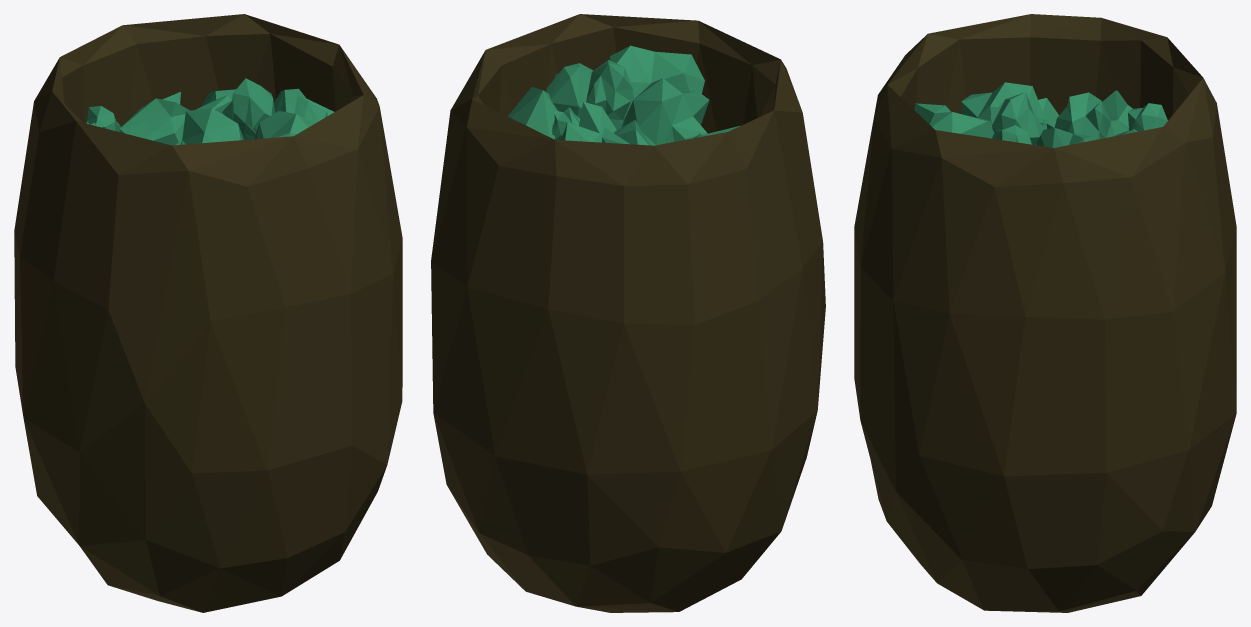
The model's file is slim pot of emerald.glb.
3 views of the same model, side by side, from view 1: azimuth 30°, elevation 25°; view 2: azimuth 150°, elevation 25°; view 3: azimuth 270°, elevation 25° (orthographic).
Visible parts, largest first — view 1: Cube, Cube.013, Cube.014, Cube.009, Cube.001, Cube.016, Cube.017; view 2: Cube, Cube.009, Cube.001, Cube.014, Cube.016, Cube.002, Cube.006, Cube.013; view 3: Cube, Cube.013, Cube.009, Cube.001, Cube.014, Cube.017, Cube.011, Cube.006.
Part boxes in pixels (<box>): Cube: <box>14,14,402,612</box>; Cube.013: <box>119,92,189,145</box>; Cube.014: <box>222,78,274,139</box>; Cube.009: <box>180,108,243,144</box>; Cube.001: <box>254,111,314,139</box>; Cube.016: <box>274,88,327,123</box>; Cube.017: <box>86,106,120,131</box>; Cube: <box>431,14,825,612</box>; Cube.009: <box>622,78,709,145</box>; Cube.001: <box>609,45,704,129</box>; Cube.014: <box>586,60,632,120</box>; Cube.016: <box>546,63,593,118</box>; Cube.002: <box>508,87,557,139</box>; Cube.006: <box>561,102,616,142</box>; Cube.013: <box>601,120,655,145</box>; Cube: <box>854,14,1236,612</box>; Cube.013: <box>1054,92,1115,139</box>; Cube.009: <box>961,82,1046,144</box>; Cube.001: <box>914,103,994,138</box>; Cube.014: <box>990,92,1044,144</box>; Cube.017: <box>1128,103,1167,131</box>; Cube.011: <box>1102,90,1132,135</box>; Cube.006: <box>1036,127,1096,147</box>.
Bounding box in the file's own units: 0.3636 × 0.5293 × 0.3636.
